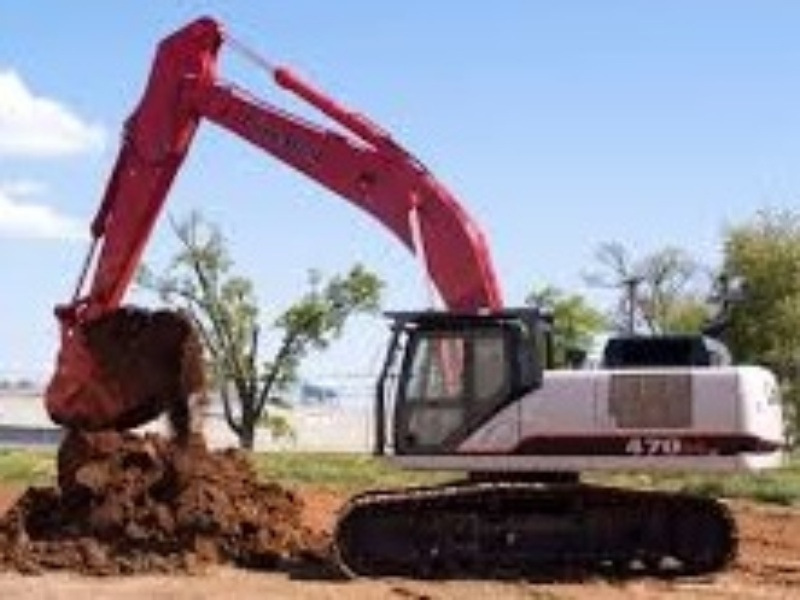wajueji: (299, 204, 794, 600)
